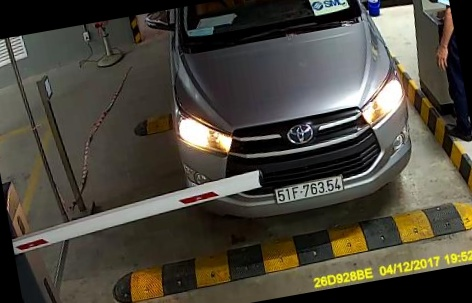plate: (268, 171, 358, 211)
